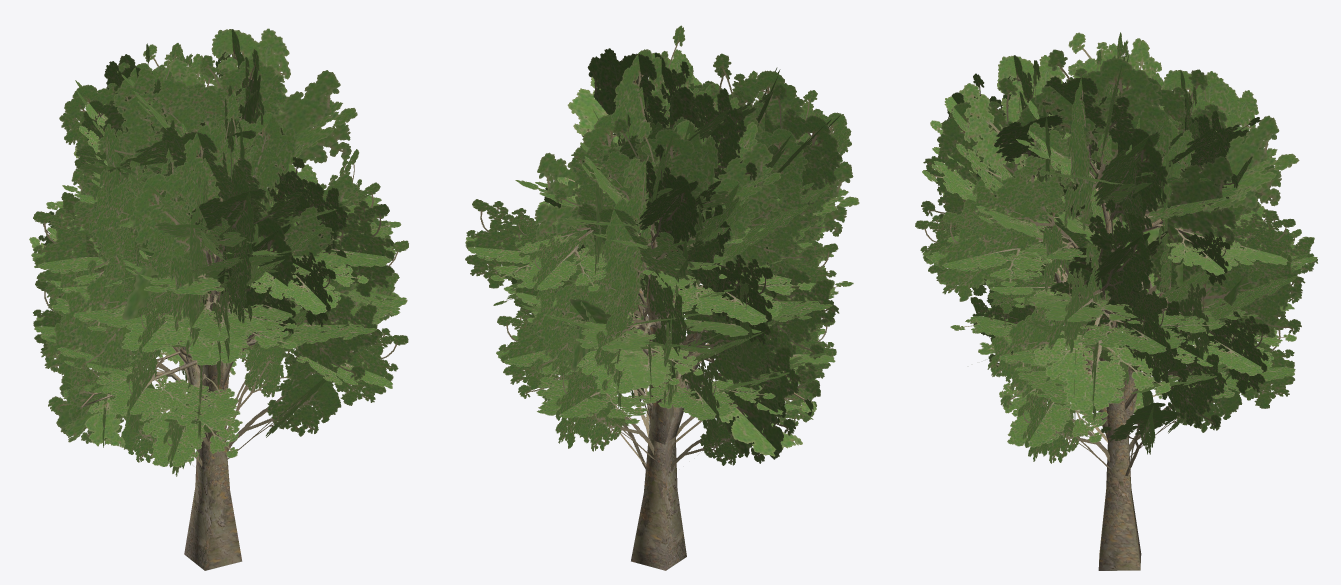
Rendered from PlatanusOccidentalis.glb.
3 renders of one model, left to right at view 1: azimuth 30°, elevation 25°; view 2: azimuth 150°, elevation 25°; view 3: azimuth 270°, elevation 25°, orthographic. The views are drawn at different scales.
Visible parts, largest first — view 1: American_Sycamore__Realistic_LOD3; view 2: American_Sycamore__Realistic_LOD3; view 3: American_Sycamore__Realistic_LOD3.
Part boxes in pixels (<box>): American_Sycamore__Realistic_LOD3: <box>29,28,408,570</box>; American_Sycamore__Realistic_LOD3: <box>465,25,859,570</box>; American_Sycamore__Realistic_LOD3: <box>915,32,1317,570</box>.
Size of the model in its own units: 21.73 by 29.25 by 21.48.
Materials: 1 (1 with a texture image).
